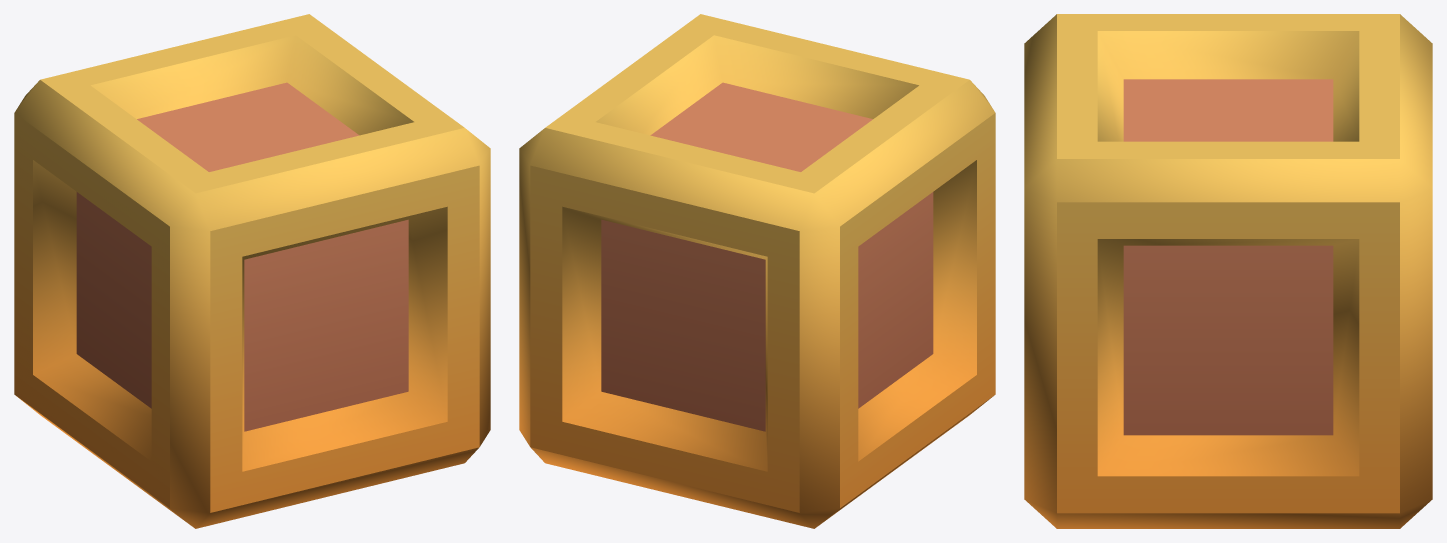
File: crate-item.glb
The picture shows the model from 3 angles, left to right: view 1: azimuth 30°, elevation 25°; view 2: azimuth 150°, elevation 25°; view 3: azimuth 270°, elevation 25°; orthographic projection. The views are drawn at different scales.
Visible parts, largest first — view 1: crate-item; view 2: crate-item; view 3: crate-item.
Part boxes in pixels (<box>): crate-item: <box>14,14,490,528</box>; crate-item: <box>519,14,995,528</box>; crate-item: <box>1024,14,1432,528</box>.
Size of the model in its own units: 0.5 by 0.5 by 0.5.
1 material, 1 textured.
